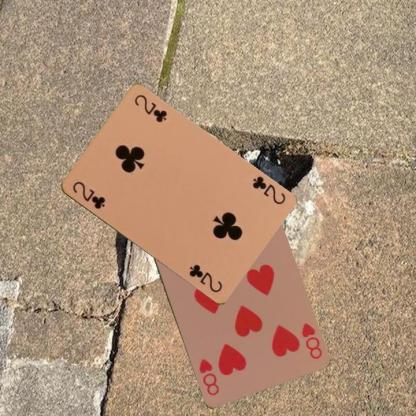2c: (249, 174, 288, 206), (70, 178, 106, 211)
8h: (298, 320, 324, 361)
